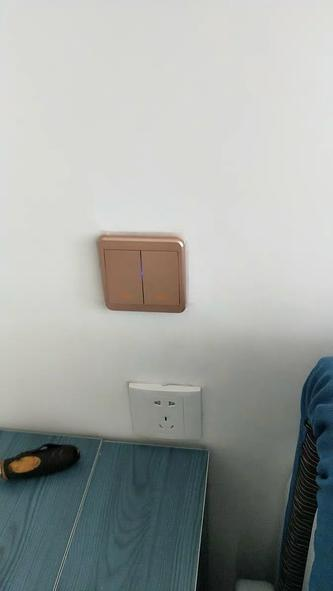switch: (134, 244, 186, 308), (101, 244, 145, 312)
